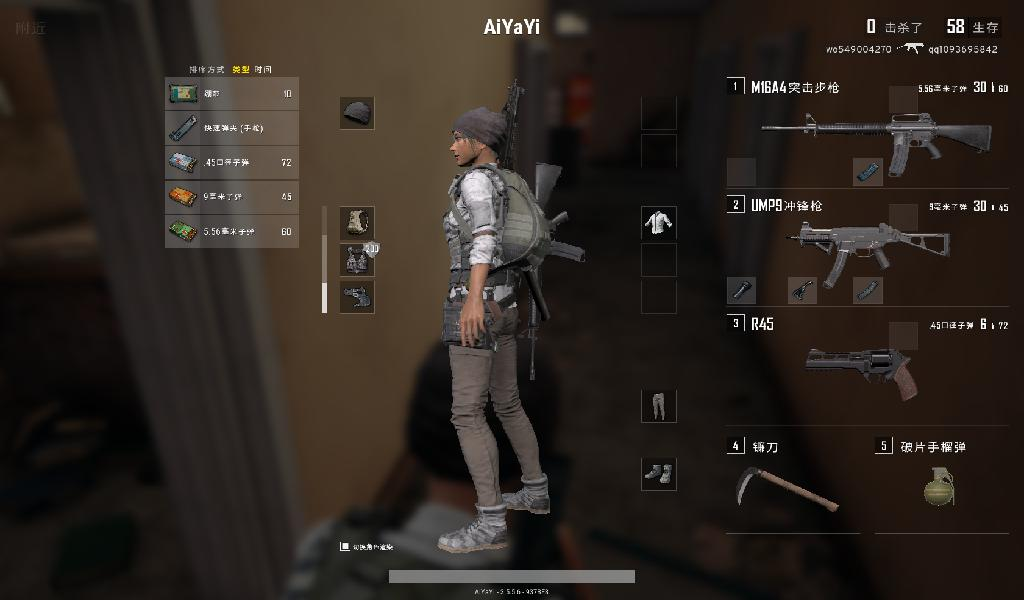Target Person: (434, 75, 590, 556)
